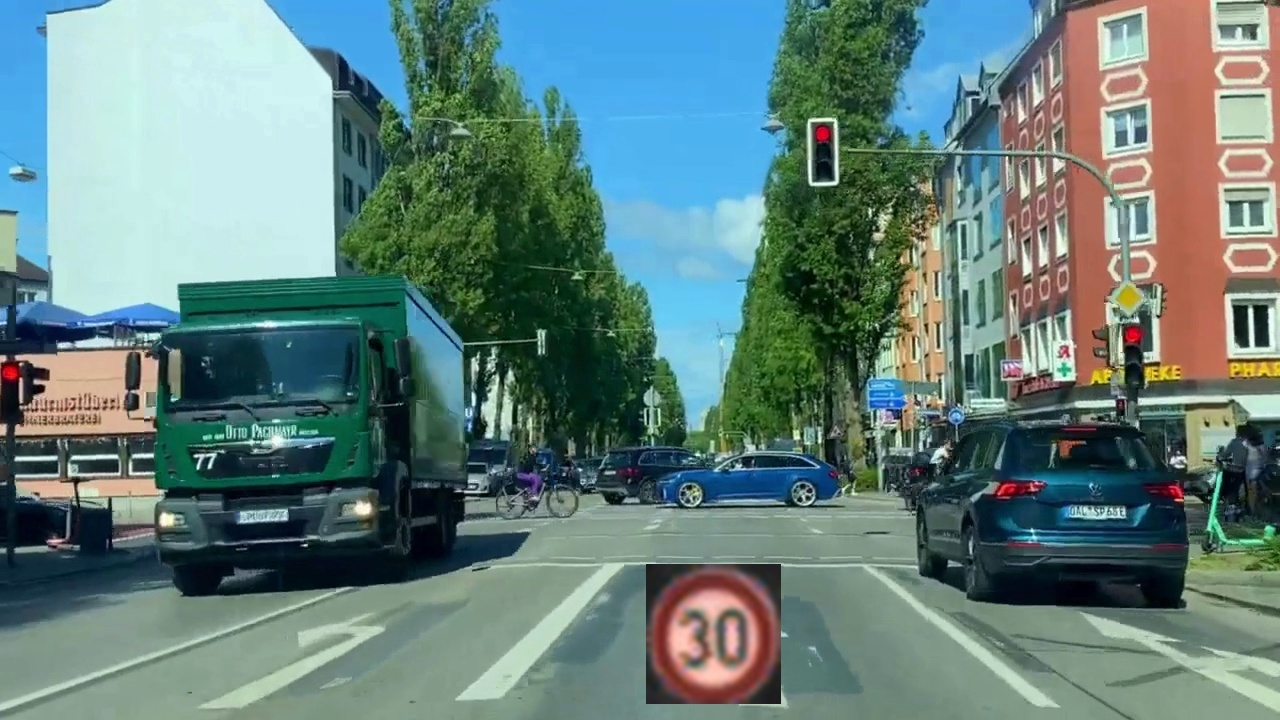Speed 30: (646, 564, 781, 704)
